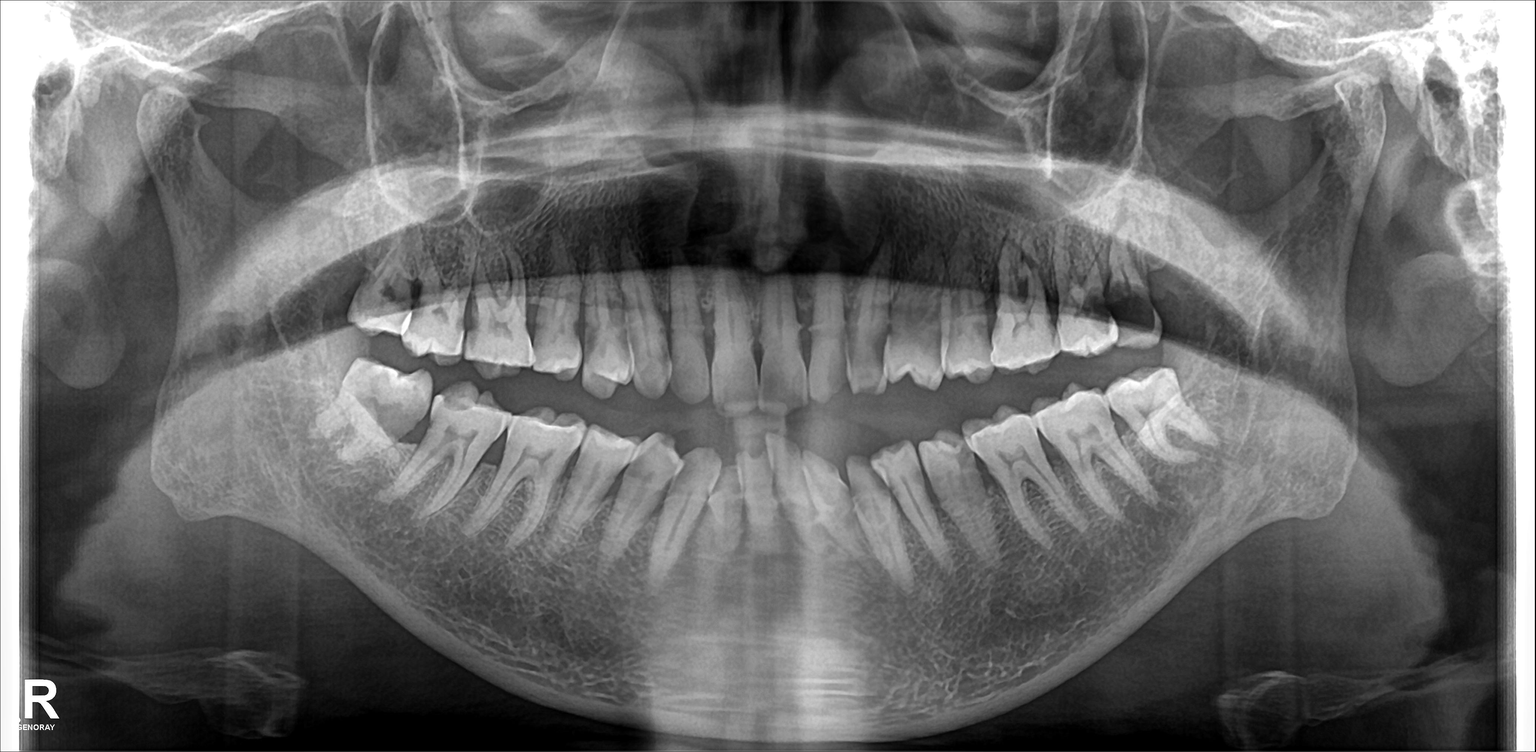Dental Caries: (1110, 285, 1155, 338)
Impacted Third Molar: (320, 365, 439, 454)
